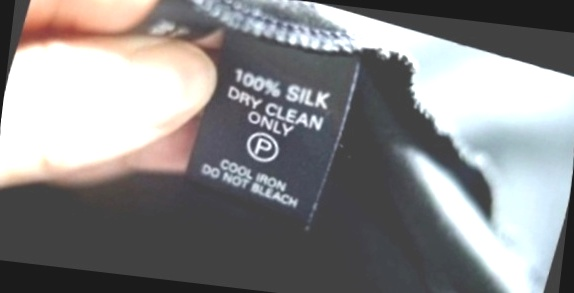dry_clean_any_solvent_except_trichloroethylene: (237, 121, 291, 173)
